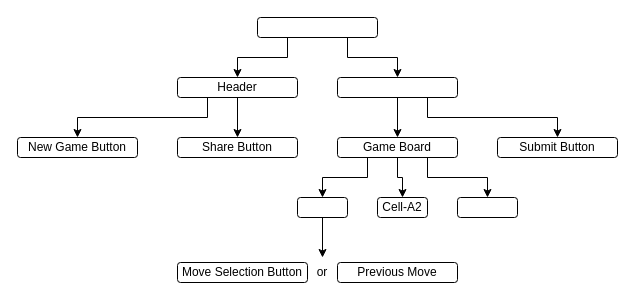
Some shapes in this 635 by 305 pixel diagram are drawn without their labels. The centre of each missing label's shape, as x and y in pixels:
"Body" goes at (317,27).
"Cell-A1" goes at (322,207).
"Cell-A3..." goes at (487,207).
"Game" goes at (397,87).
